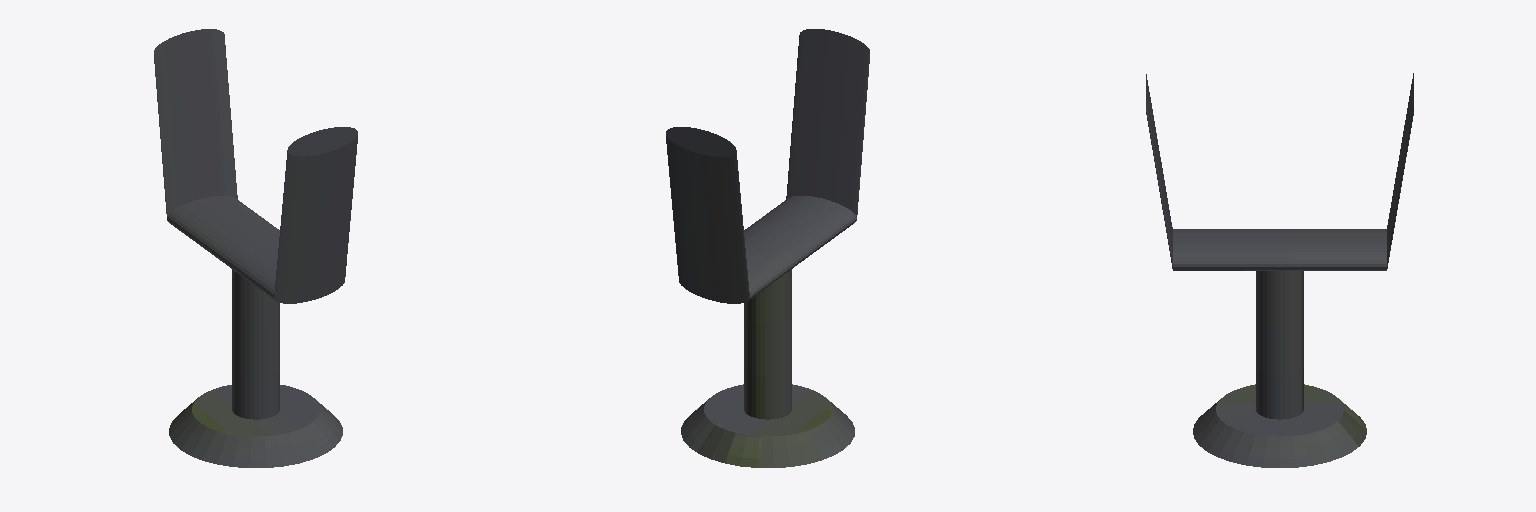
3 views of the same model, side by side, from view 1: azimuth 30°, elevation 25°; view 2: azimuth 150°, elevation 25°; view 3: azimuth 270°, elevation 25° (orthographic).
Visible parts, largest first — view 1: Base; view 2: Base; view 3: Base.
Part boxes in pixels (x1,y1,x2,y2): Base: (154, 29, 357, 467); Base: (666, 29, 869, 467); Base: (1146, 73, 1413, 467).
Bounding box in the file's own units: 4.25 × 9.43 × 6.53.
Materials: 1 (1 with a texture image).